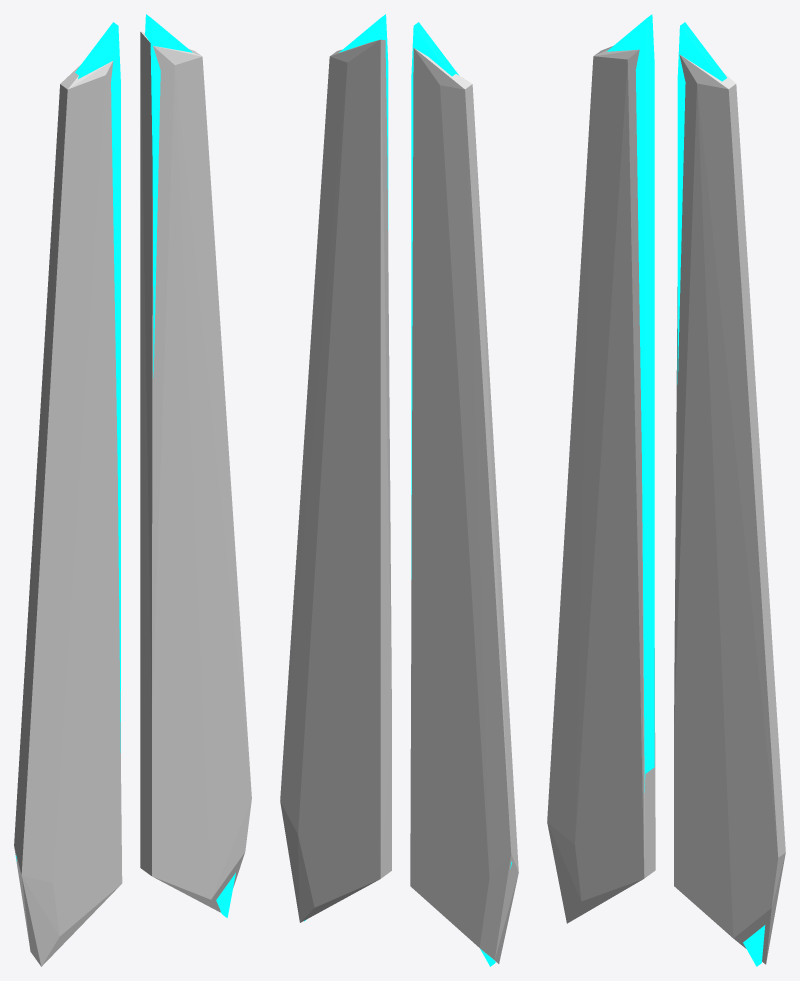
Rendered from SM_Wep_Sword_Double_Energy_01.fbx.
3 views of the same model, side by side, from view 1: azimuth 30°, elevation 25°; view 2: azimuth 150°, elevation 25°; view 3: azimuth 330°, elevation 25° (orthographic).
Parts seen in each view (by area): view 1: SM_Wep_Sword_Double_Energy_01_ConvexHulls, SM_Wep_Sword_Double_Energy_01_LOD0; view 2: SM_Wep_Sword_Double_Energy_01_ConvexHulls, SM_Wep_Sword_Double_Energy_01_LOD0; view 3: SM_Wep_Sword_Double_Energy_01_ConvexHulls, SM_Wep_Sword_Double_Energy_01_LOD0.
Part boxes in pixels (x1,y1,x2,y2): SM_Wep_Sword_Double_Energy_01_ConvexHulls: [14, 31, 251, 966]; SM_Wep_Sword_Double_Energy_01_LOD0: [15, 14, 235, 917]; SM_Wep_Sword_Double_Energy_01_ConvexHulls: [280, 39, 518, 963]; SM_Wep_Sword_Double_Energy_01_LOD0: [304, 14, 512, 966]; SM_Wep_Sword_Double_Energy_01_ConvexHulls: [547, 46, 785, 964]; SM_Wep_Sword_Double_Energy_01_LOD0: [607, 14, 765, 966].
Size of the model in its own units: 1.93 by 22.57 by 86.25.
Materials: 1 (1 with a texture image).
